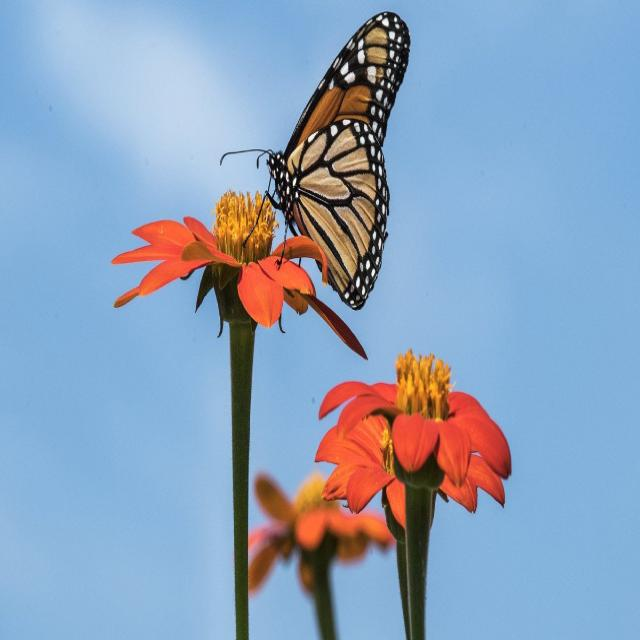butterfly: (293, 67, 411, 286)
